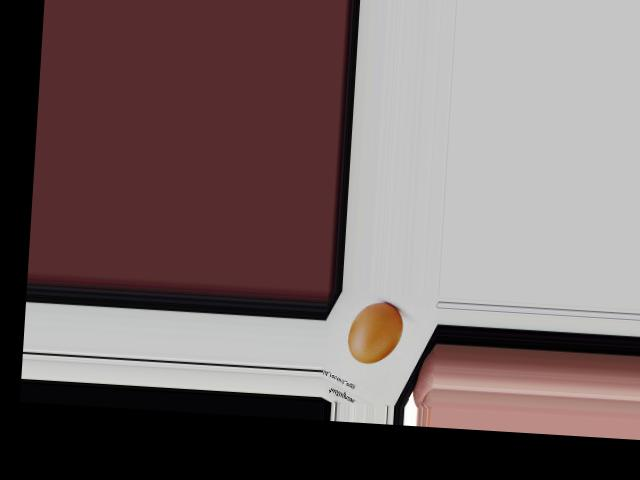egg: (347, 300, 404, 365)
